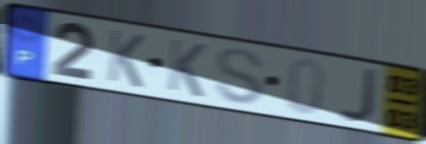0: (284, 55, 329, 118)
2: (50, 20, 98, 84)
J: (335, 66, 380, 125)
K: (105, 27, 148, 91), (166, 36, 208, 101)
S: (213, 46, 268, 107)
